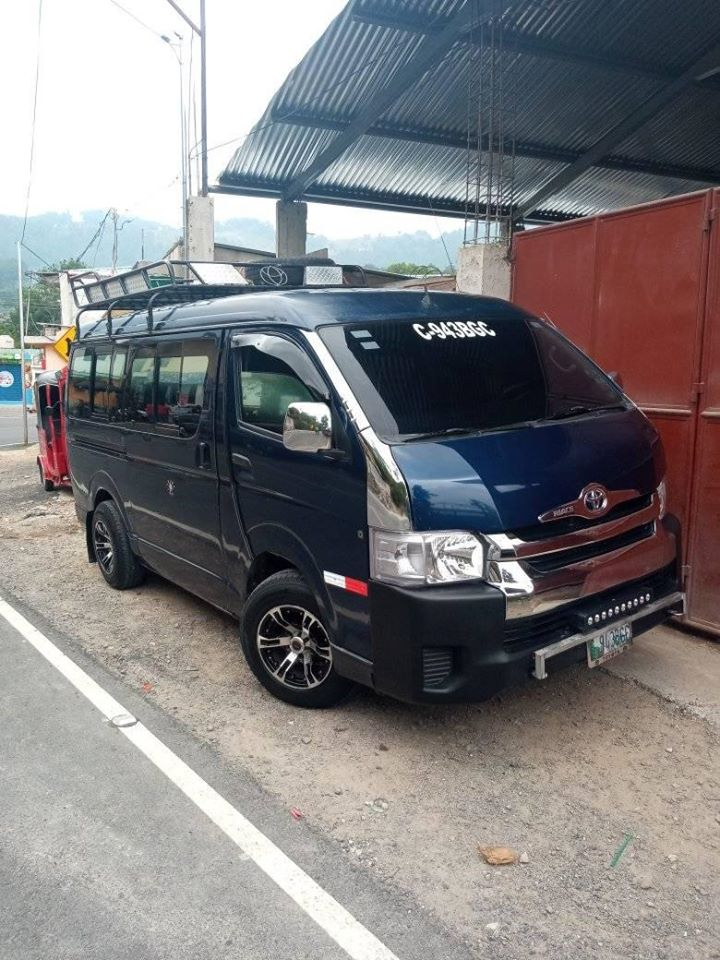bus: (57, 288, 689, 716)
